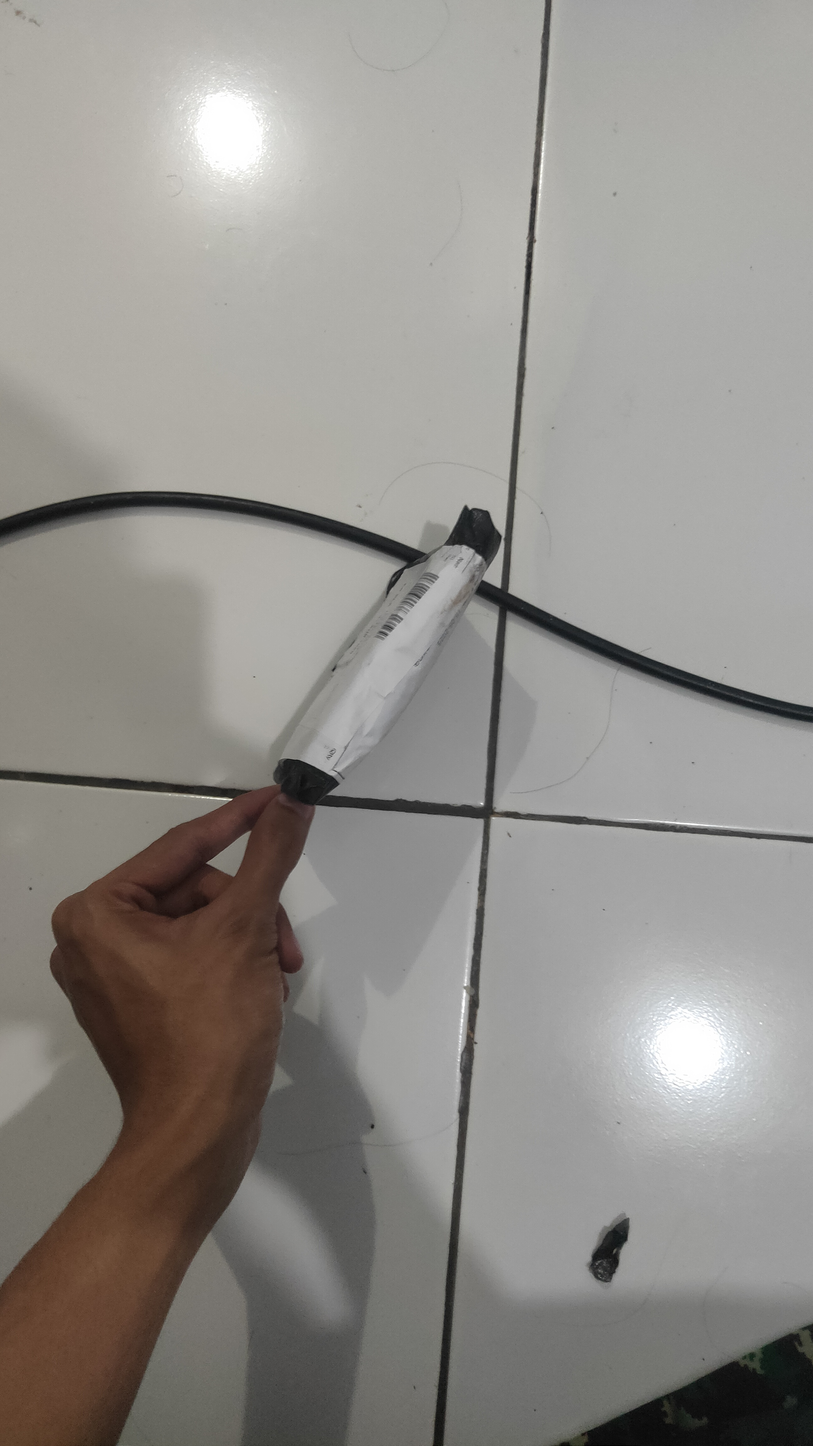undamaged: (271, 540, 491, 811)
